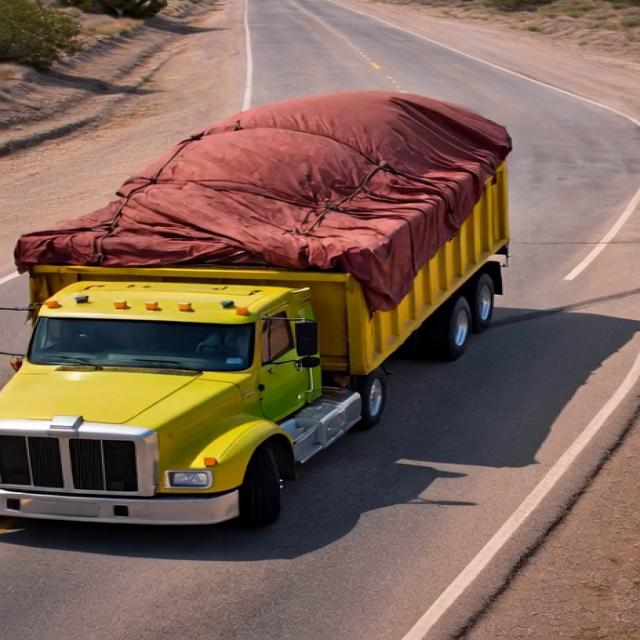trailer: (33, 104, 520, 263)
truck: (8, 75, 567, 514)
